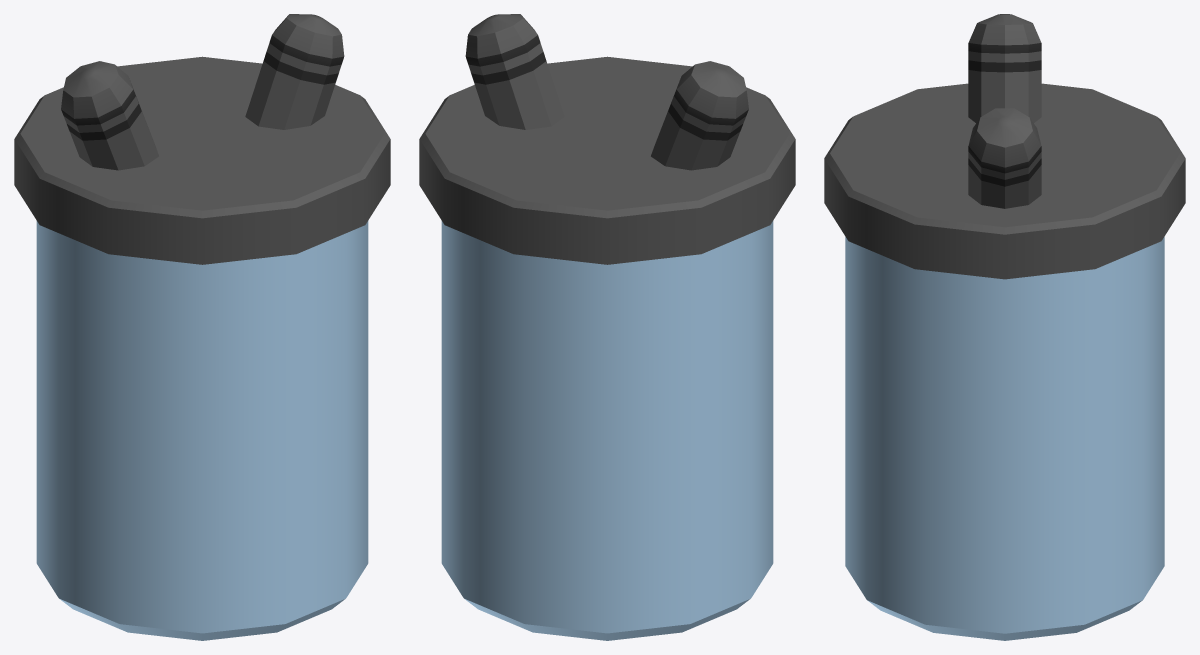
File: HeartJar_02.fbx
The picture shows the model from 3 angles, left to right: view 1: azimuth 30°, elevation 25°; view 2: azimuth 150°, elevation 25°; view 3: azimuth 270°, elevation 25°; orthographic projection. The views are drawn at different scales.
Parts seen in each view (by area): view 1: HeartJar_01; view 2: HeartJar_01; view 3: HeartJar_01.
Part boxes in pixels (box(x1,y1,x2,y2)): HeartJar_01: box(14, 14, 390, 640); HeartJar_01: box(419, 14, 795, 640); HeartJar_01: box(824, 14, 1185, 640).
Bounding box in the file's own units: 173 × 272 × 173.
